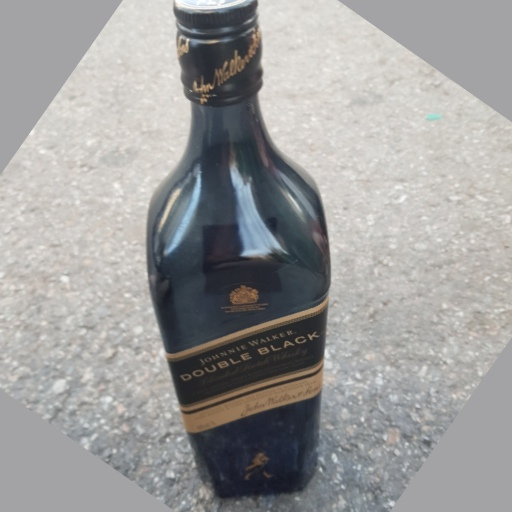Glass_2: (147, 2, 331, 497)
